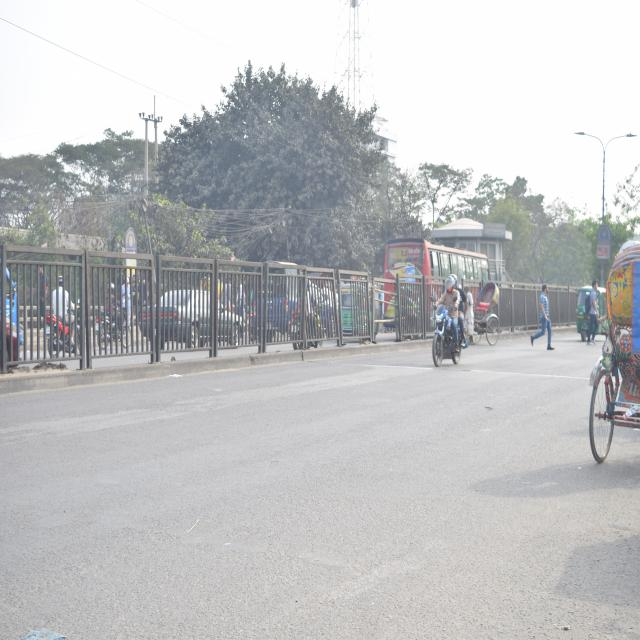motorbike: (421, 289, 471, 374), (572, 278, 602, 344)
